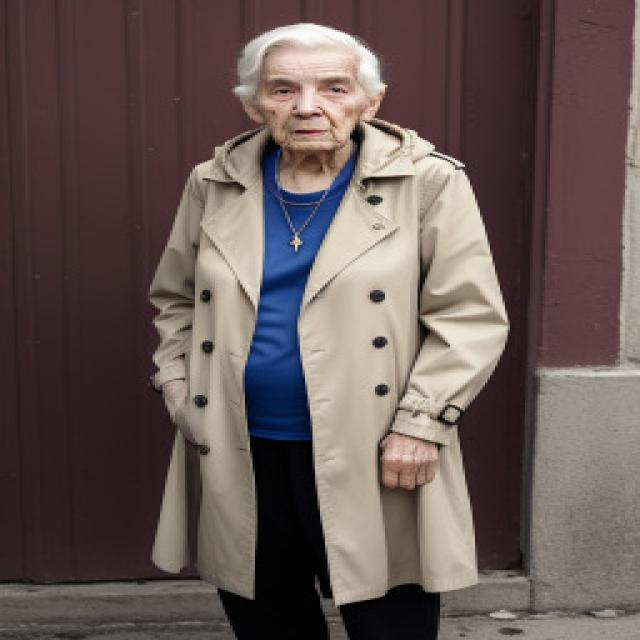Ai human 2: (125, 11, 525, 640)
